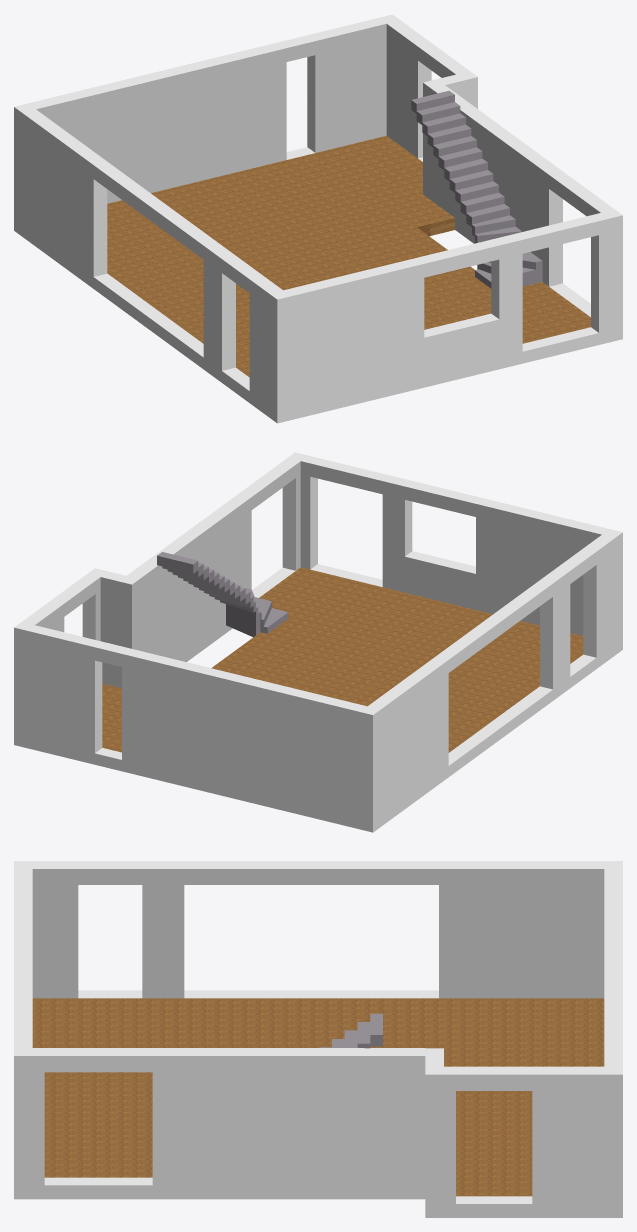
3 renders of one model, top to bottom at view 1: azimuth 30°, elevation 25°; view 2: azimuth 150°, elevation 25°; view 3: azimuth 270°, elevation 25°, orthographic. The views are drawn at different scales.
Visible parts, largest first — view 1: EG.002, Boden.001, Treppe.003; view 2: EG.002, Boden.001, Treppe.003; view 3: EG.002, Boden.001, Treppe.003.
Boxes of the visible parts, x1,y1,x2,y2 form: EG.002: (14,14,622,423); Boden.001: (107,135,590,377); Treppe.003: (411,90,542,288); EG.002: (14,452,622,832); Boden.001: (102,567,583,752); Treppe.003: (157,552,288,637); EG.002: (14,861,622,1217); Boden.001: (32,998,604,1196); Treppe.003: (319,1013,382,1048).
Size of the model in its own units: 9.92 by 3.38 by 11.95.
4 materials, 1 textured.
